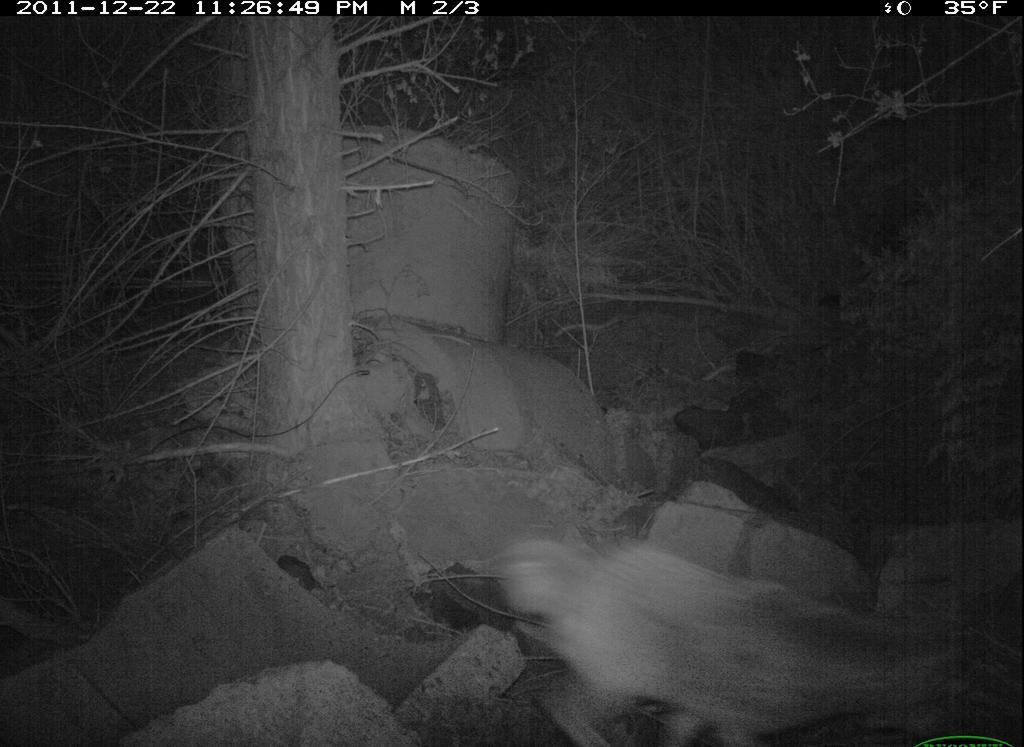coyote: (479, 500, 989, 743)
